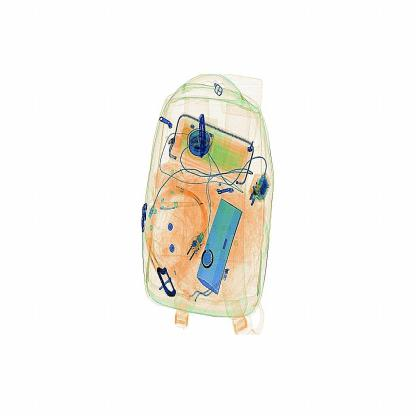knife: (190, 103, 218, 166)
